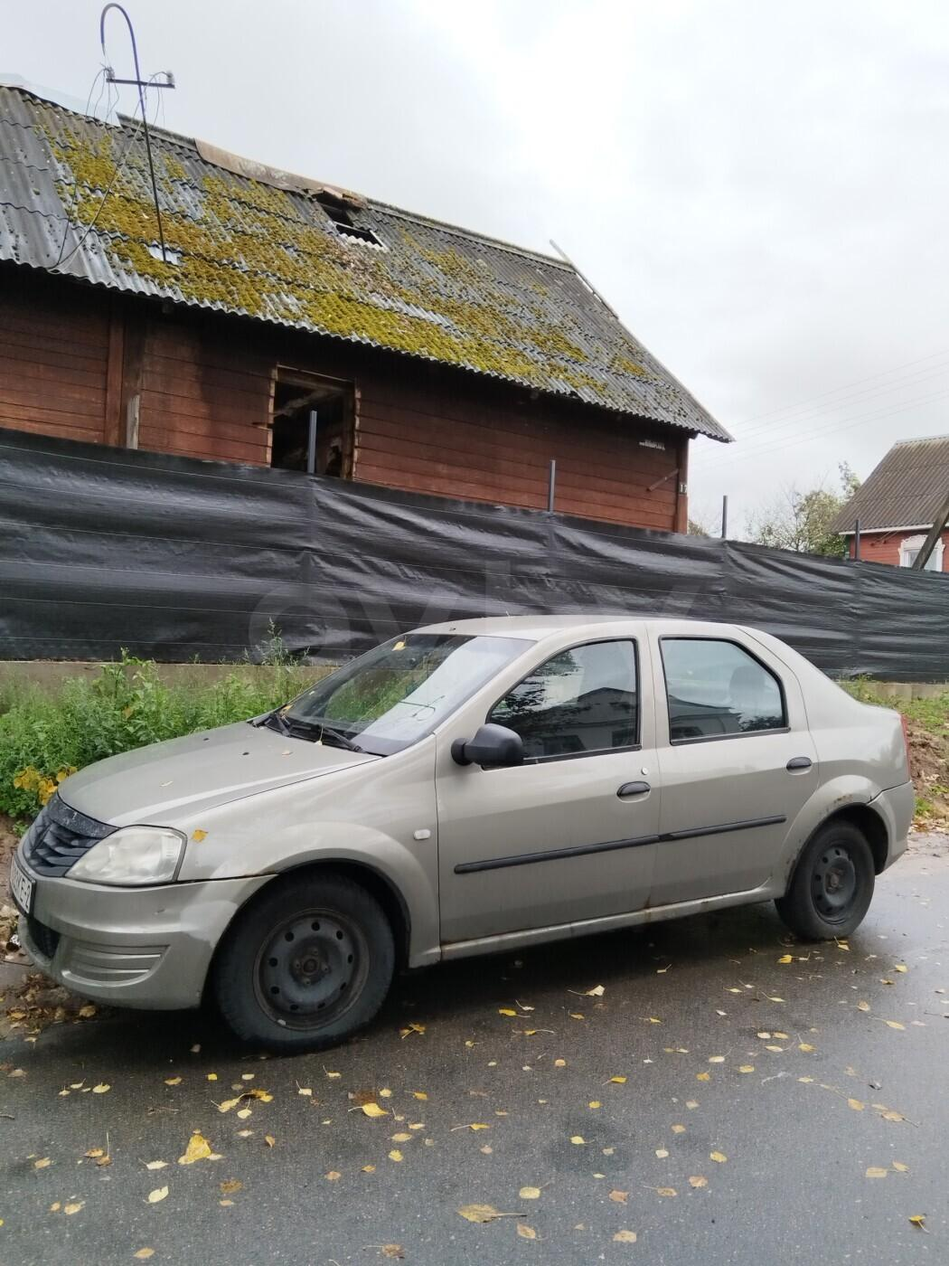Logan_2008-2015: (13, 613, 926, 1051)
